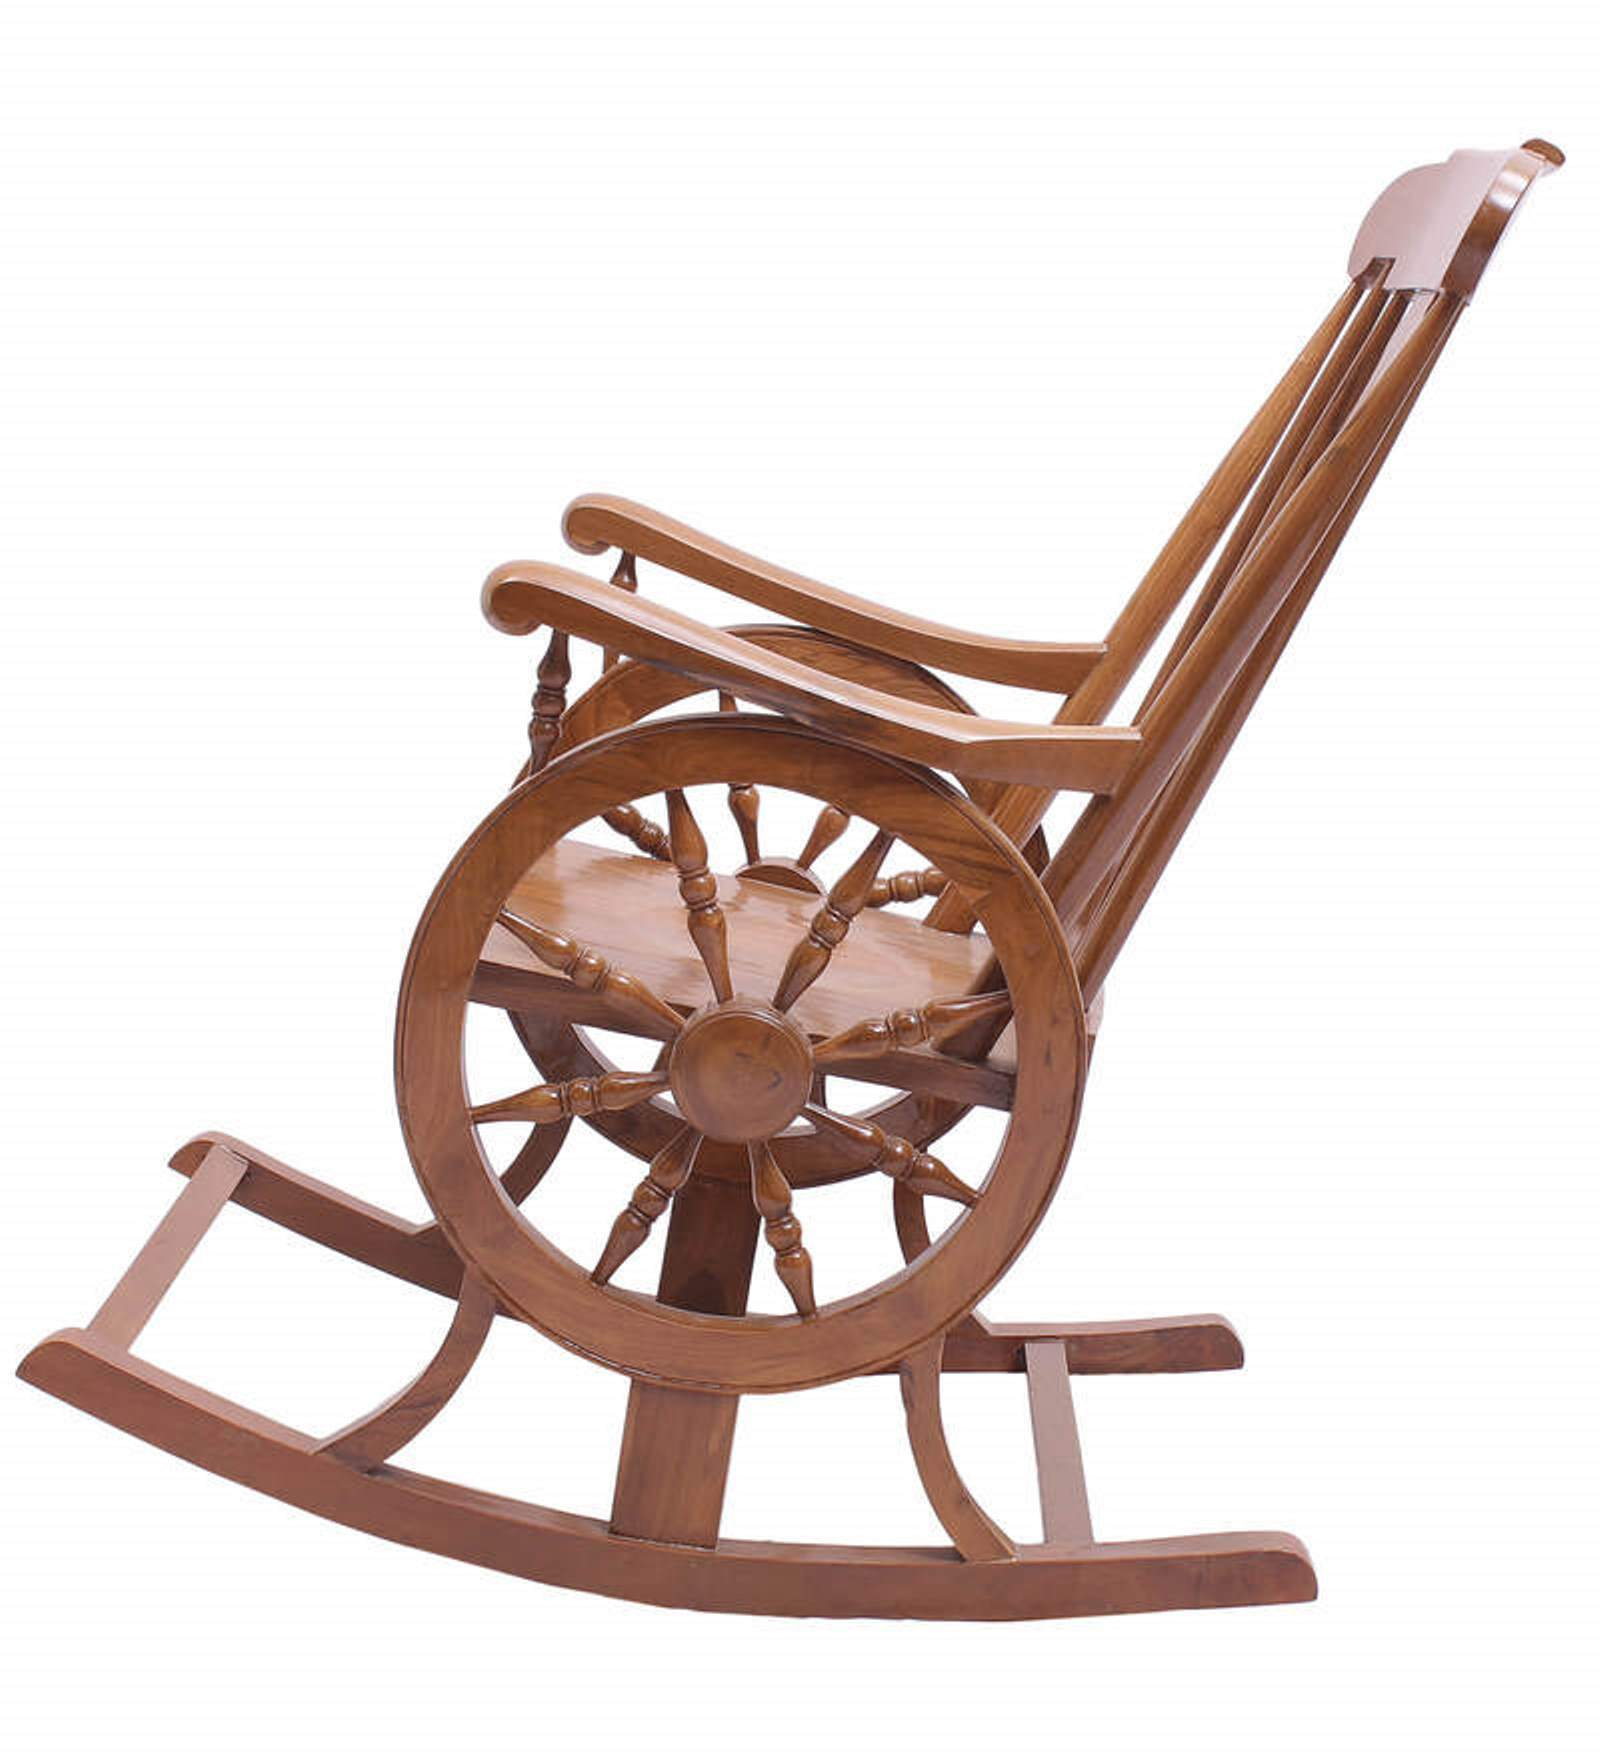Chelmsford Teak Wood Rocking Chair in Composite Teak Finish by Finesse: (44, 63, 1565, 1660)
